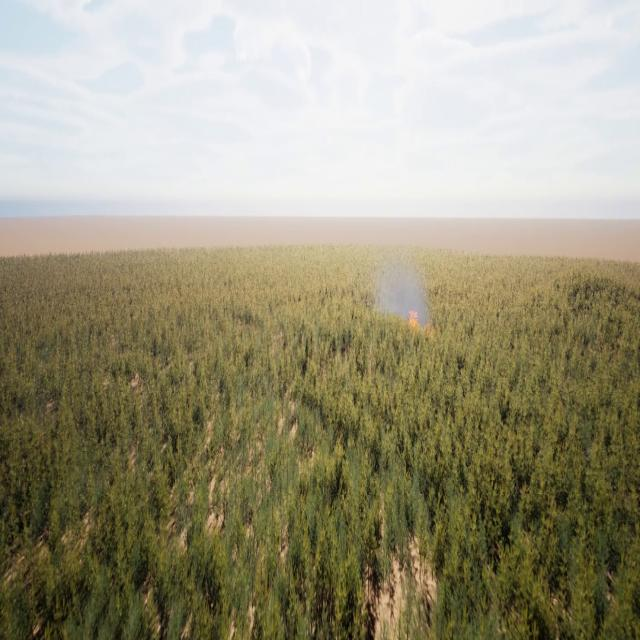fire: (408, 303, 421, 327)
smoke: (373, 254, 435, 335)
